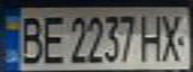2: (84, 11, 106, 64), (66, 11, 87, 65)
3: (103, 11, 124, 63)
7: (118, 11, 139, 63)
B: (12, 11, 45, 65)
E: (36, 11, 69, 65)
H: (139, 11, 166, 62)
X: (157, 11, 187, 63)
